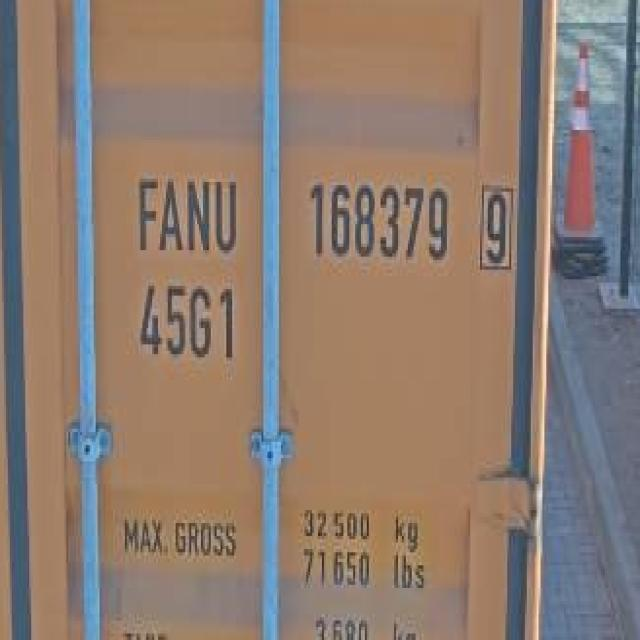dv: (474, 181, 518, 270)
owner: (132, 168, 245, 260)
serial: (299, 173, 458, 270)
size: (131, 272, 239, 374)
